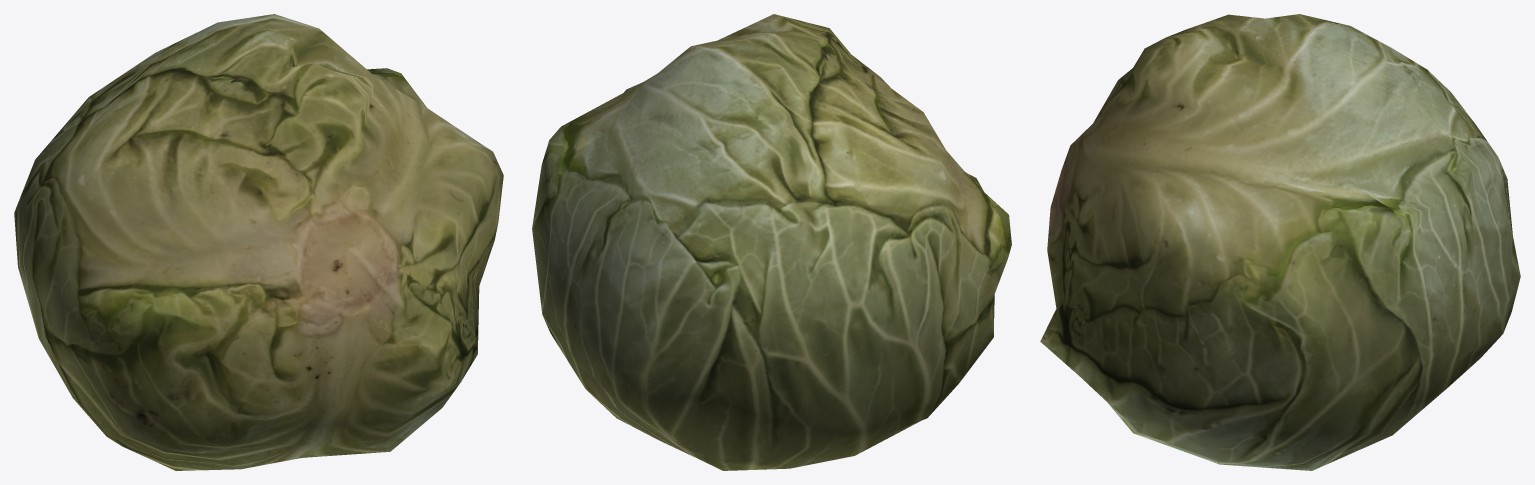
Rendered from A15_Cabbage_low.fbx.
The picture shows the model from 3 angles, left to right: view 1: azimuth 30°, elevation 25°; view 2: azimuth 150°, elevation 25°; view 3: azimuth 270°, elevation 25°; orthographic projection. The views are drawn at different scales.
Parts seen in each view (by area): view 1: A15_Cabbage_low; view 2: A15_Cabbage_low; view 3: A15_Cabbage_low.
Part boxes in pixels (x1,y1,x2,y2): A15_Cabbage_low: (14, 14, 503, 470); A15_Cabbage_low: (532, 14, 1011, 470); A15_Cabbage_low: (1040, 14, 1520, 470).
Bounding box in the file's own units: 15.01 × 14.52 × 14.16.
Materials: 1 (1 with a texture image).
